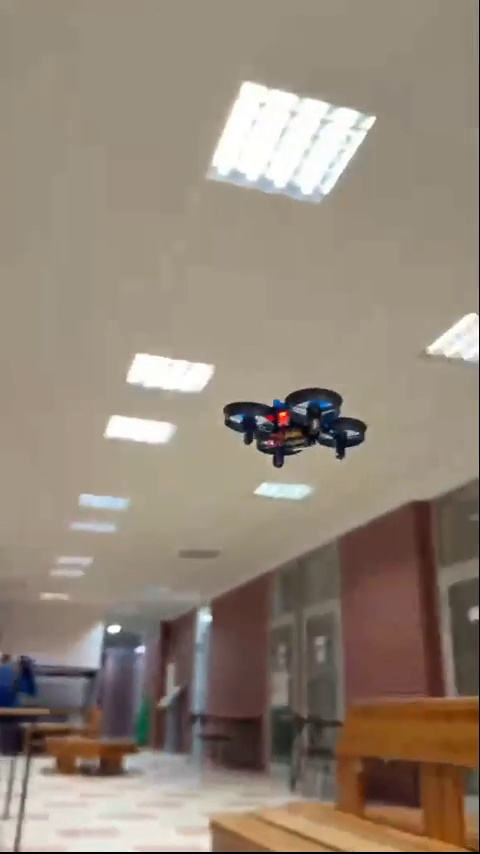drone: (222, 389, 362, 459)
